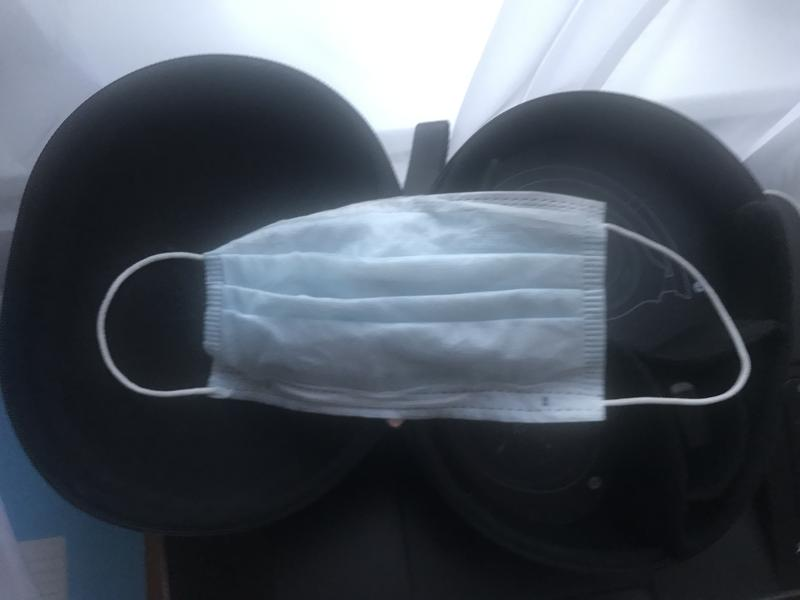medical_mask: (96, 192, 752, 423)
